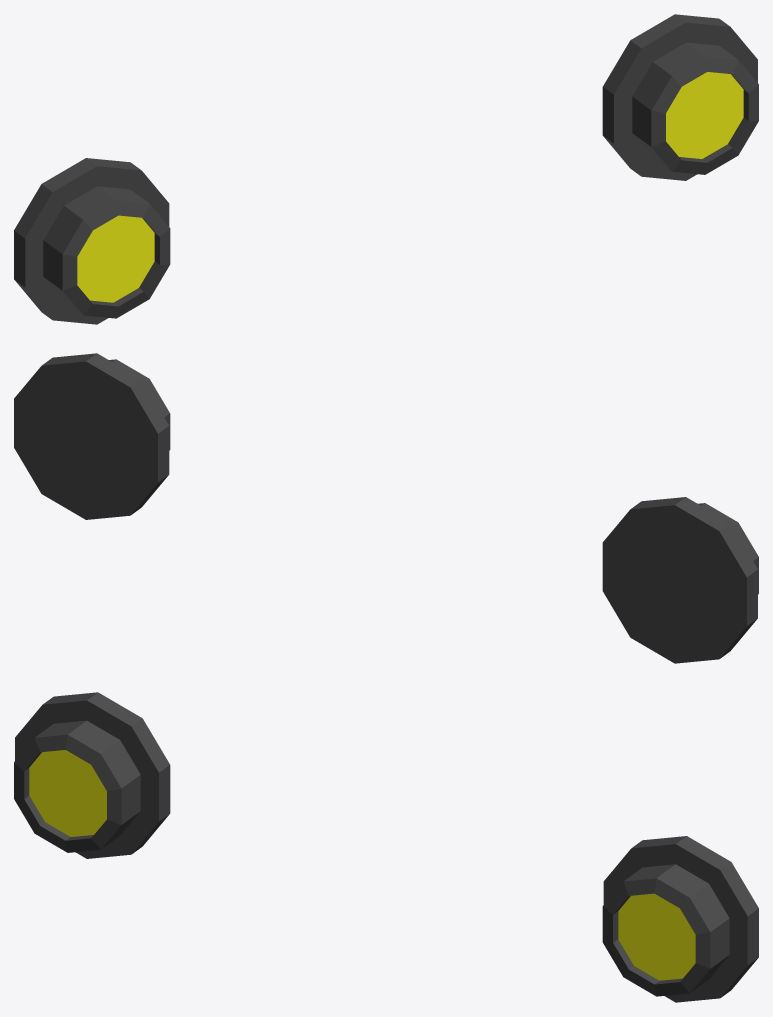
Rendered from Lights_Kart2.fbx.
3 views of the same model, one above another, from view 1: azimuth 30°, elevation 25°; view 2: azimuth 150°, elevation 25°; view 3: azimuth 330°, elevation 25° (orthographic).
Visible parts, largest first — view 1: Lights_Kart2; view 2: Lights_Kart2; view 3: Lights_Kart2.
Boxes of the visible parts, box(x1,y1,x2,y2) form: Lights_Kart2: box(14, 14, 758, 324); Lights_Kart2: box(14, 353, 758, 663); Lights_Kart2: box(14, 692, 758, 1002).
Bounding box in the file's own units: 541 × 112 × 41.57.
